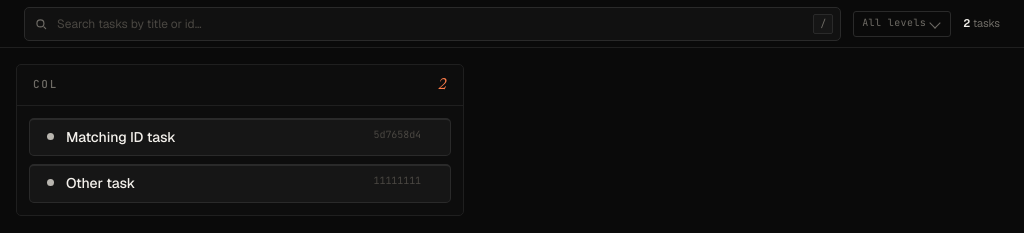
it: KanbanBoard › search filtering › filters cards by full task ID
Type "5d7658d4-1b54-4fc4-b2e6-f3df7894fa0c" into the search field labelled "Search tasks by title or id" at (433, 24), box [24, 6, 841, 40]
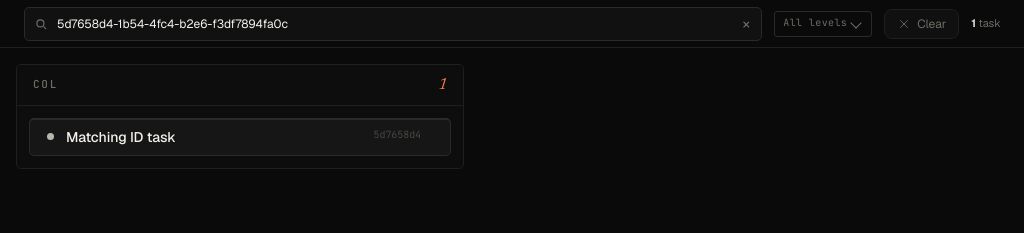
Expected: the heading "Matching ID task" is shown, [66, 128, 176, 146]
Now the button "Other task" is gone
